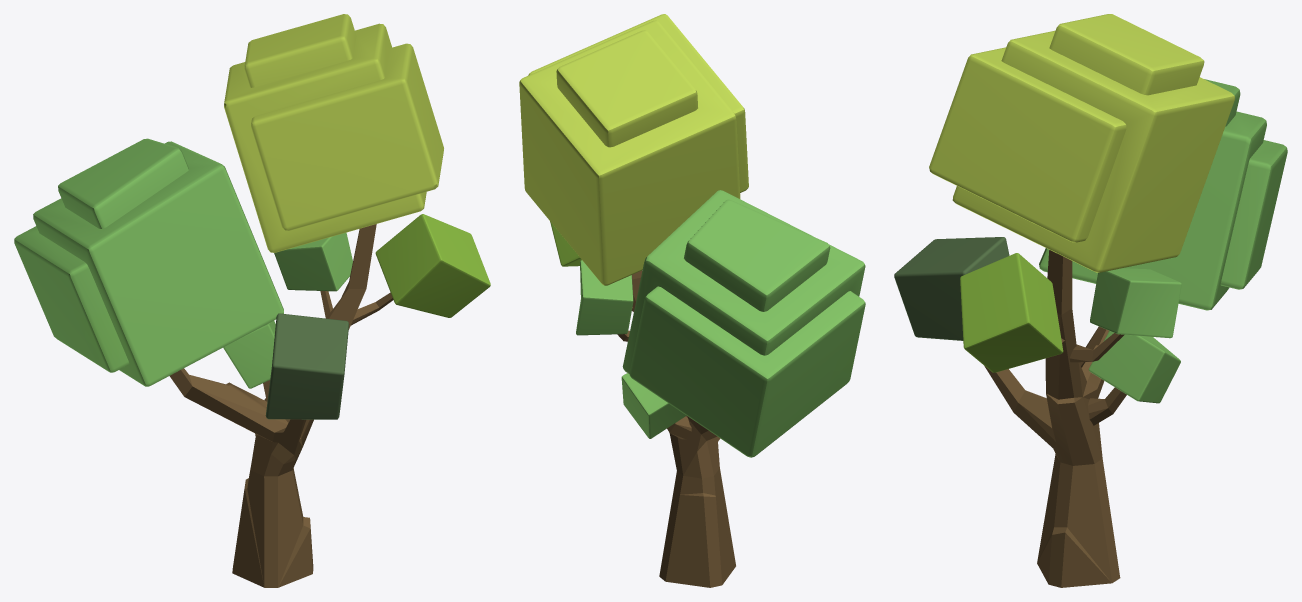
The model's file is model_polytope_tree11.fbx.
3 renders of one model, left to right at view 1: azimuth 30°, elevation 25°; view 2: azimuth 150°, elevation 25°; view 3: azimuth 270°, elevation 25°, orthographic. The views are drawn at different scales.
Visible parts, largest first — view 1: model_polytope_tree11; view 2: model_polytope_tree11; view 3: model_polytope_tree11.
Part boxes in pixels (left/top/right/bottom): model_polytope_tree11: left=14, top=14, right=490, bottom=587; model_polytope_tree11: left=519, top=14, right=865, bottom=587; model_polytope_tree11: left=894, top=14, right=1287, bottom=587.
Bounding box in the file's own units: 403 × 559 × 344.
